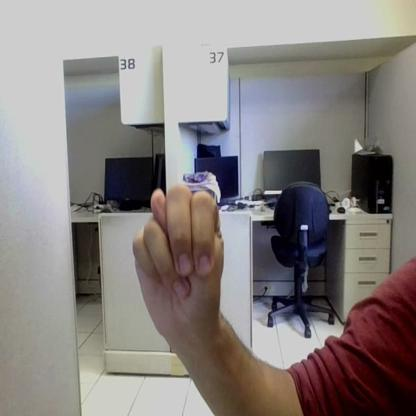N: (133, 184, 222, 324)
